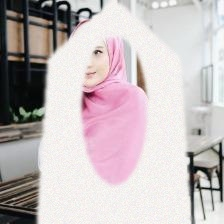Mukena: (32, 35, 196, 224)
